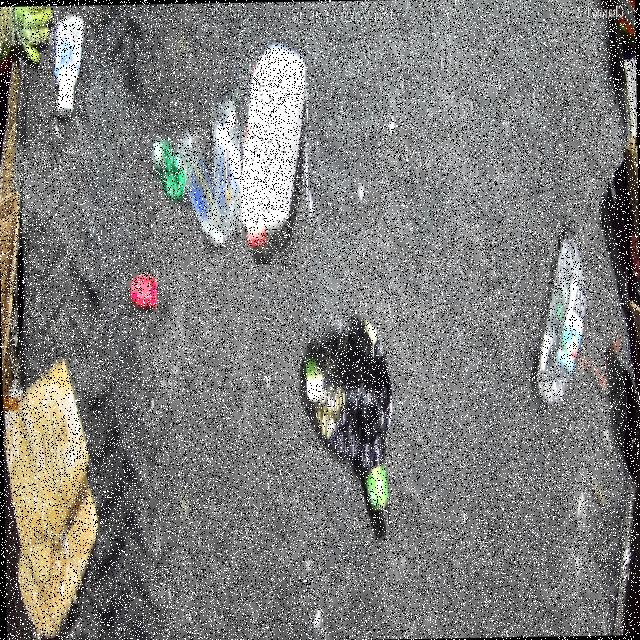milk-jug: (237, 38, 309, 264)
